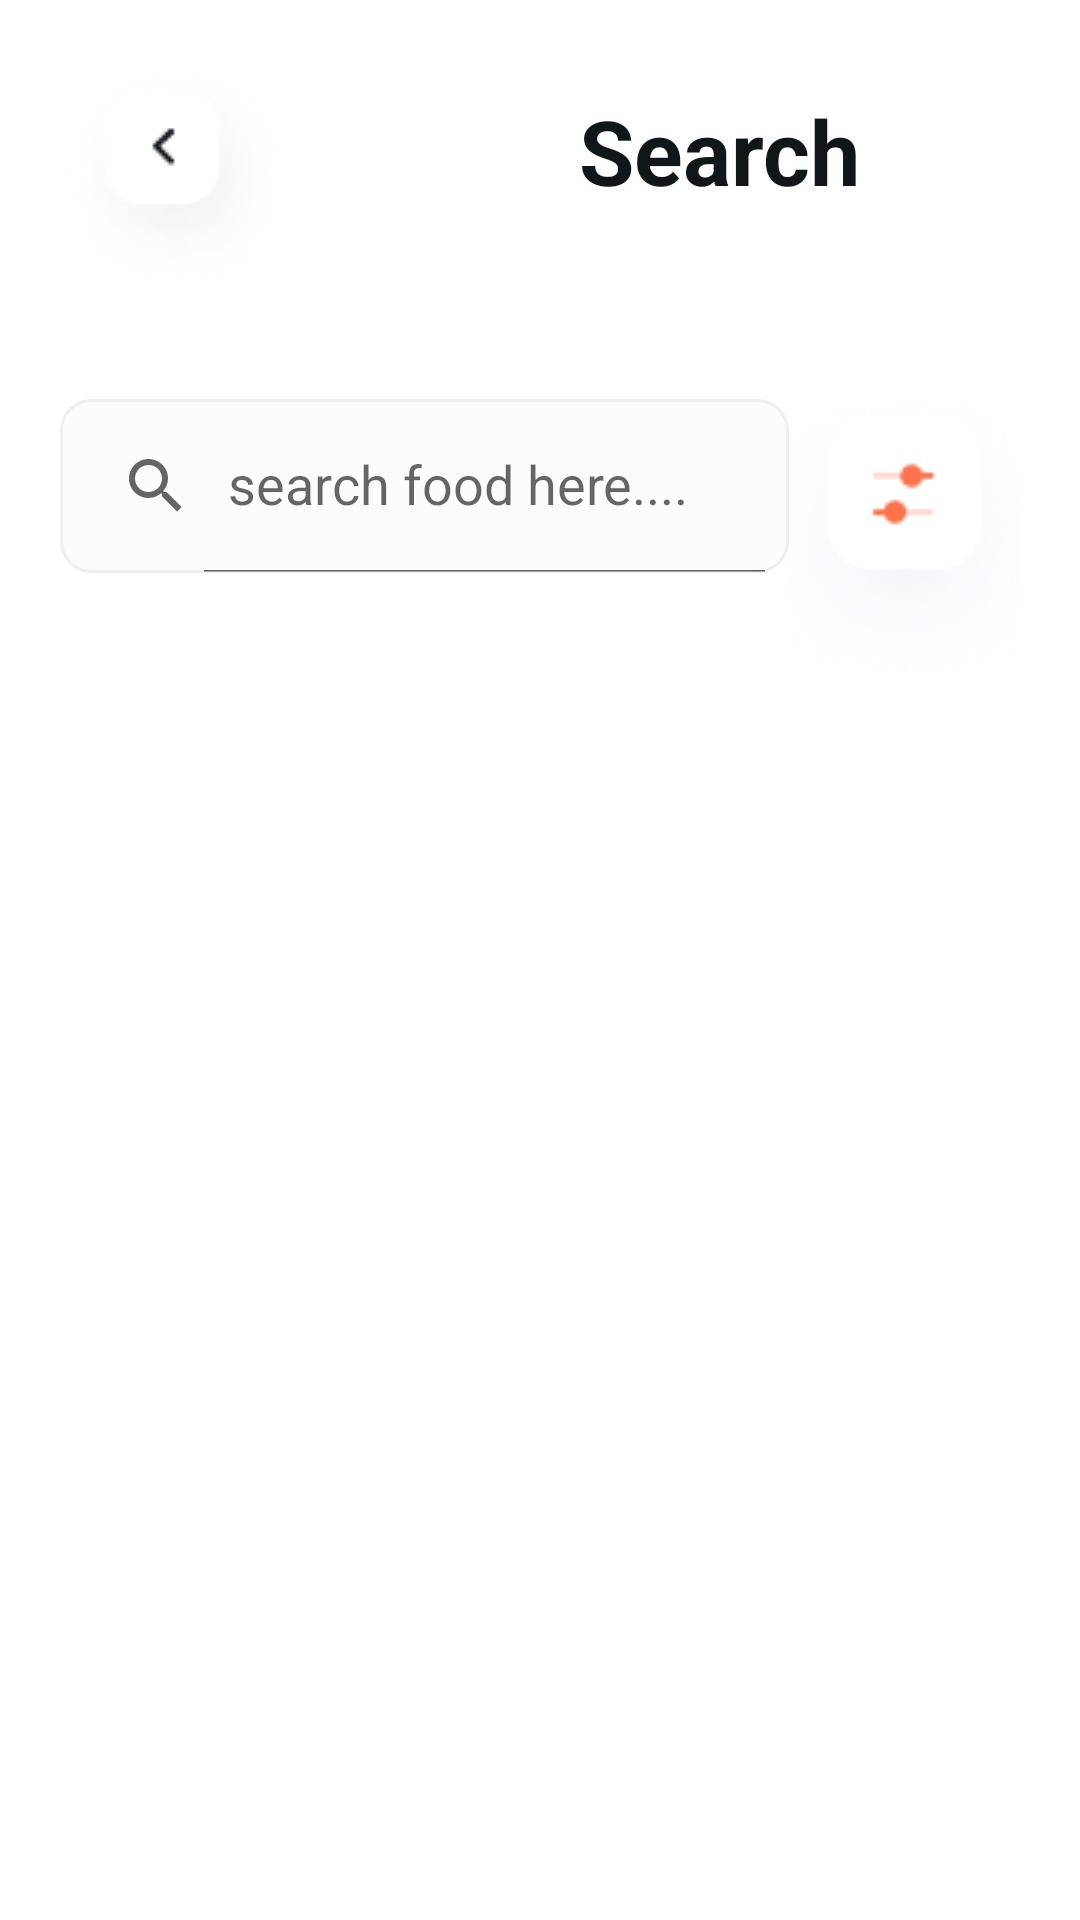

Screen size 1080×1920. Icon name, then its box in pixels as {"x1": x1, "y1": y1, "x2": x2, "y2": y2}:
back: {"x1": 152, "y1": 128, "x2": 175, "y2": 166}
